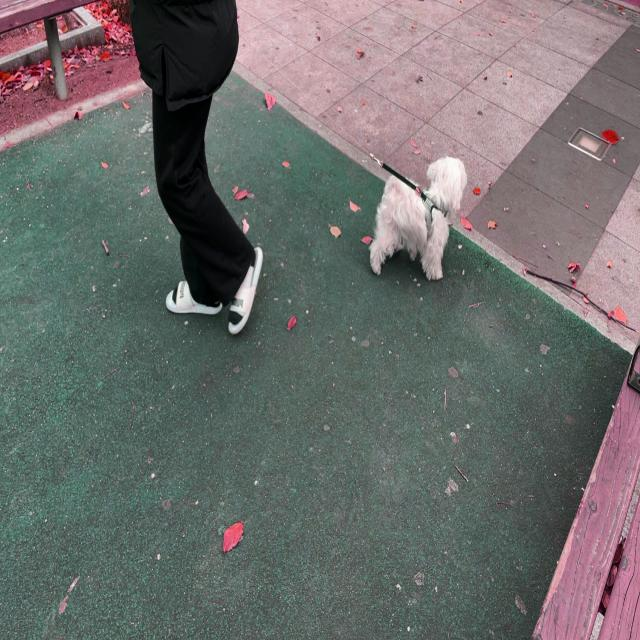Leashed_Dog: (183, 0, 469, 281)
